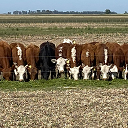vaca: (38, 37, 53, 80), (13, 39, 26, 84), (81, 41, 93, 82), (67, 41, 79, 81), (97, 41, 109, 81), (0, 35, 10, 82), (109, 41, 121, 80), (26, 38, 36, 82), (57, 39, 66, 78), (123, 41, 127, 83)
